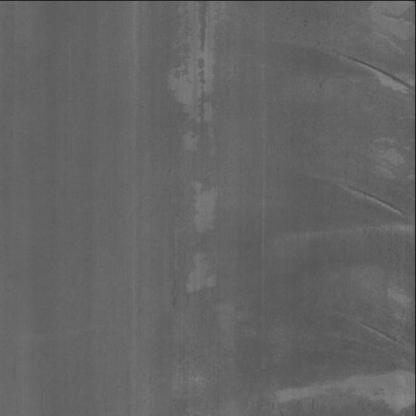crease: (340, 45, 416, 106)
